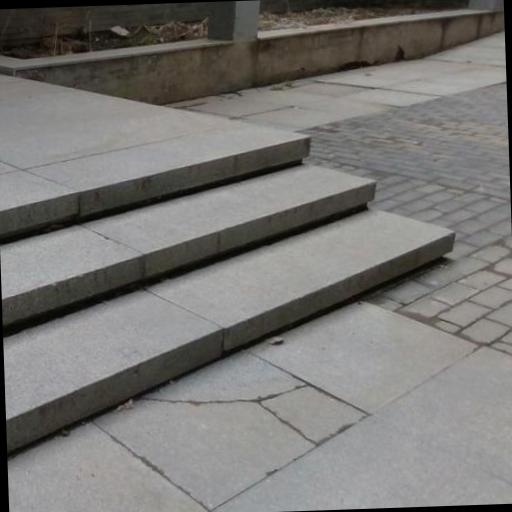stairs: (0, 120, 452, 452)
